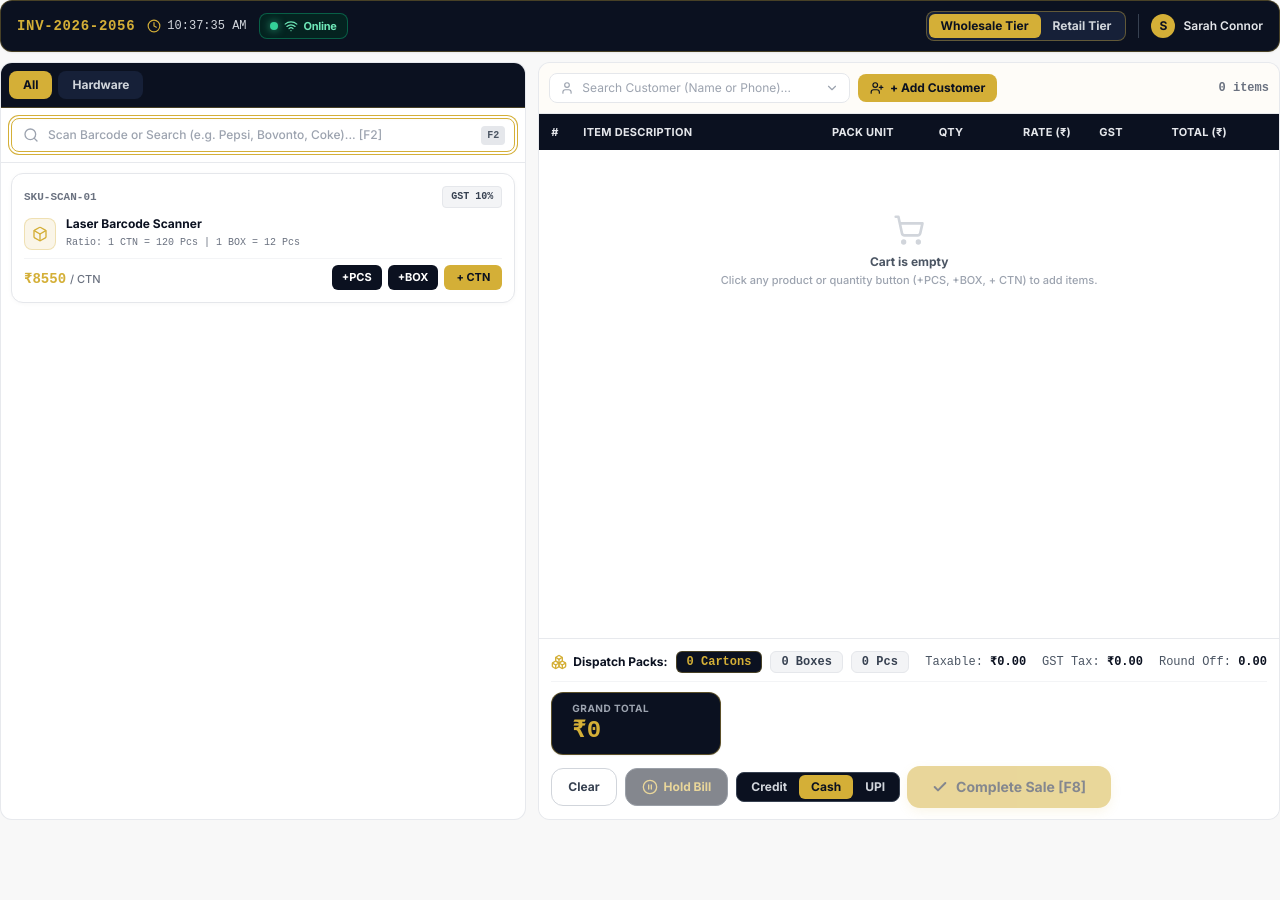
BUSINESSFLOW — Stages 5–8 Frontend Operations & Management Tests › POSPage: renders catalog and adds item to cart
The image size is (1280, 900).
Expected: the text "Cart is empty" is shown, [870,254,948,269]
Note: Click item to add to cart
Click the heading "Laser Barcode Scanner" at (134, 224), box [66,216,202,231]
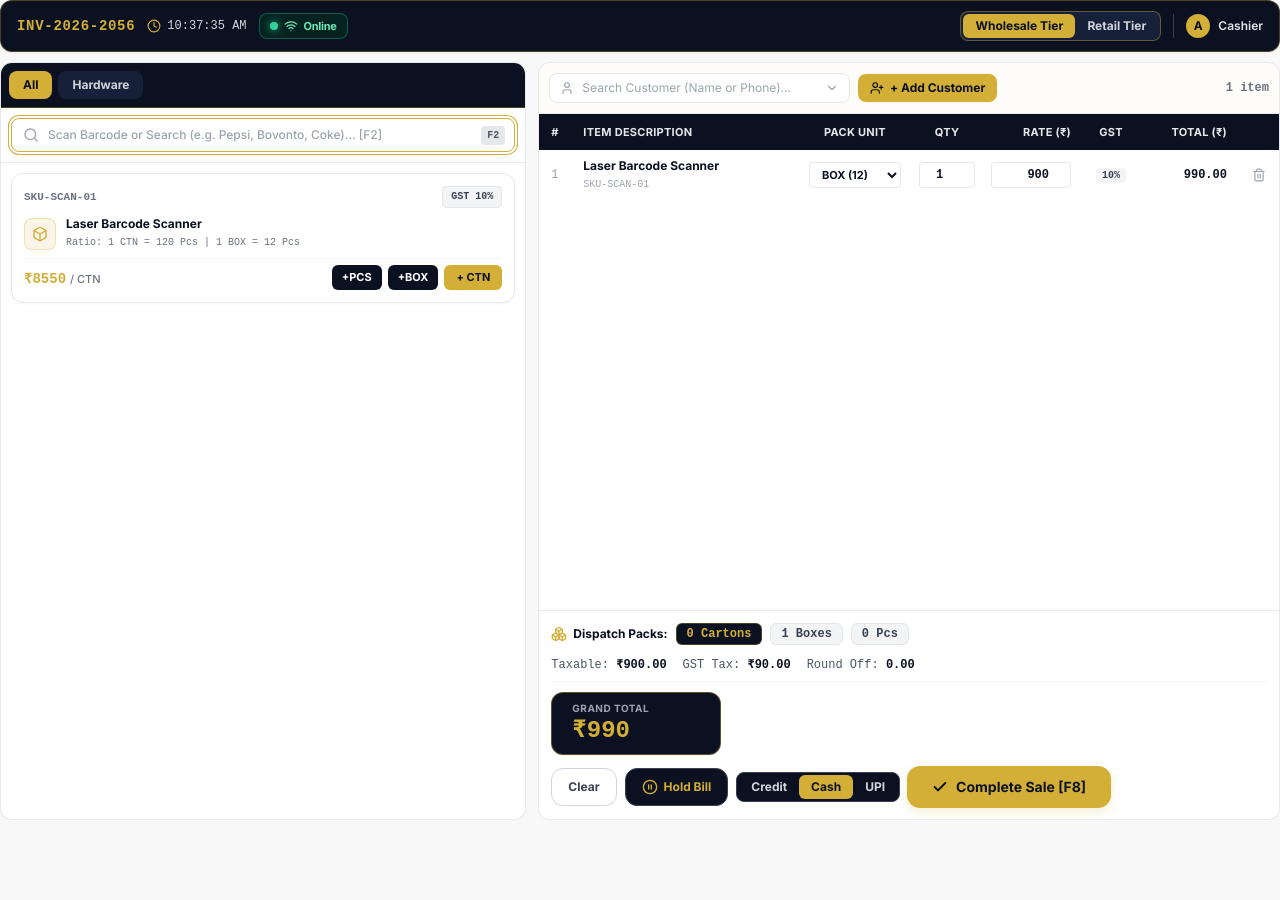
Expected: the button "Complete Sale [F8]" is shown, [908,767,1110,807]
Result: the text "Cart is empty" is gone
